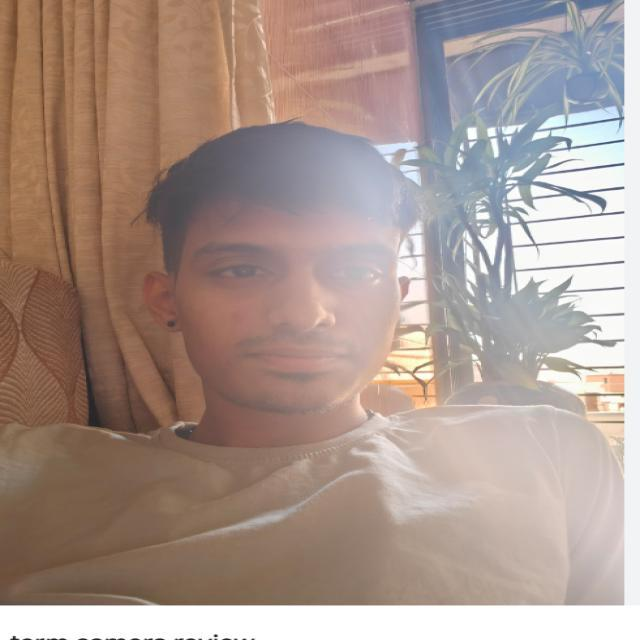face_no_mask: (151, 194, 390, 404)
